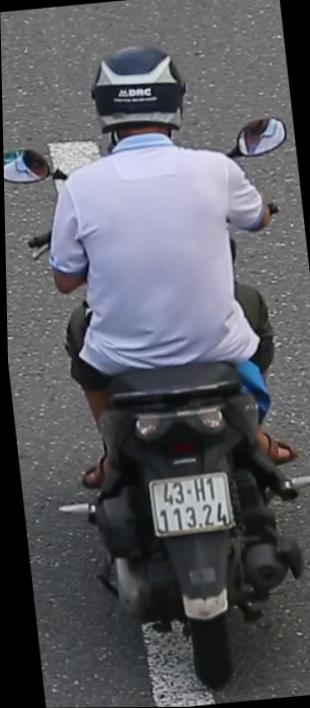LP: (143, 468, 238, 544)
helmet: (86, 35, 193, 149)
